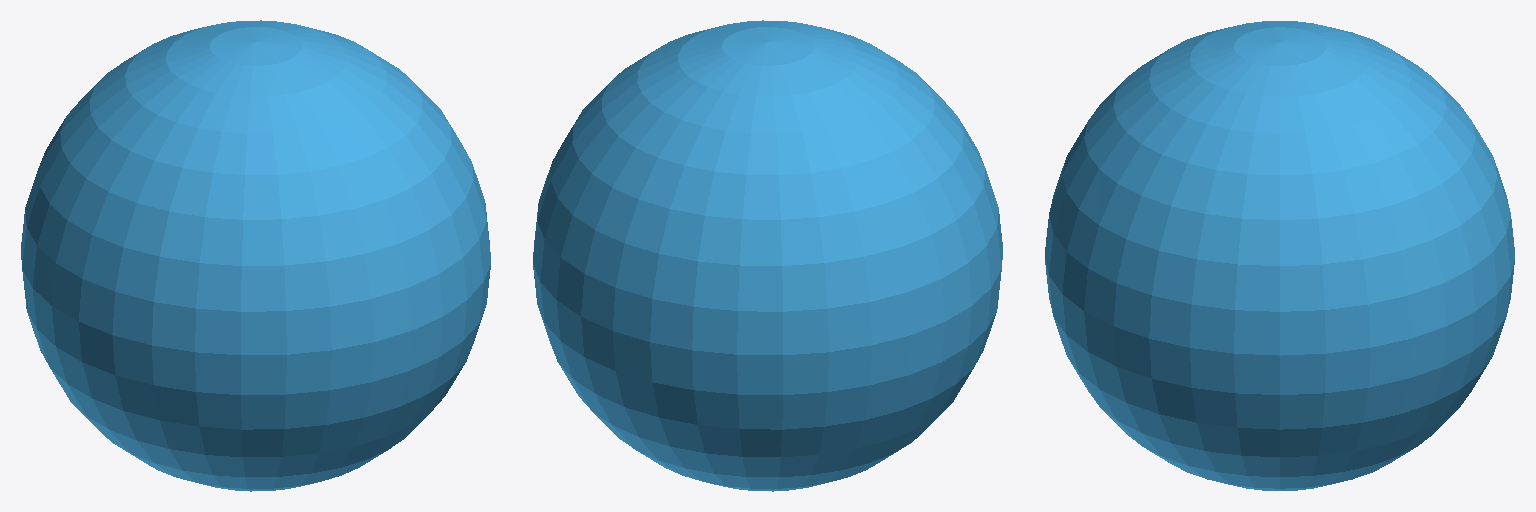
URDF robot description (large_sphere):
<?xml version="1.0"?>
<robot name="large_sphere">
  <link name="base"/>
  <link name="link_1">
    <visual>
      <geometry>
        <mesh filename="small_sphere.obj"/>
      </geometry>
    </visual>
    <collision>
      <geometry>
        <mesh filename="small_sphere.obj"/>
      </geometry>
    </collision>
  </link>
	<joint name="joint_1" type="fixed">
		<origin rpy="1.570796326794897 0 -1.570796326794897" xyz="0 0 0"/>
		<child link="link_1"/>
		<parent link="base"/>
	</joint>
</robot>

--- Render facts (derived) ---
Views: 3 orthographic renders of the robot side by side, from view 1: azimuth 30°, elevation 25°; view 2: azimuth 150°, elevation 25°; view 3: azimuth 270°, elevation 25°.
Model large_sphere with 2 links and 1 joints (1 fixed), rooted at base, posed all joints at 0.
Visible links, largest first — view 1: link_1; view 2: link_1; view 3: link_1.
Boxes of the visible links, left/top/right/bottom form: link_1: left=21, top=20, right=490, bottom=491; link_1: left=533, top=20, right=1002, bottom=491; link_1: left=1045, top=21, right=1514, bottom=490.
Size in the robot's own frame: 0.45 by 0.45 by 0.45 metres.
1 mesh visuals loaded from 1 distinct referenced files (1 OBJ).